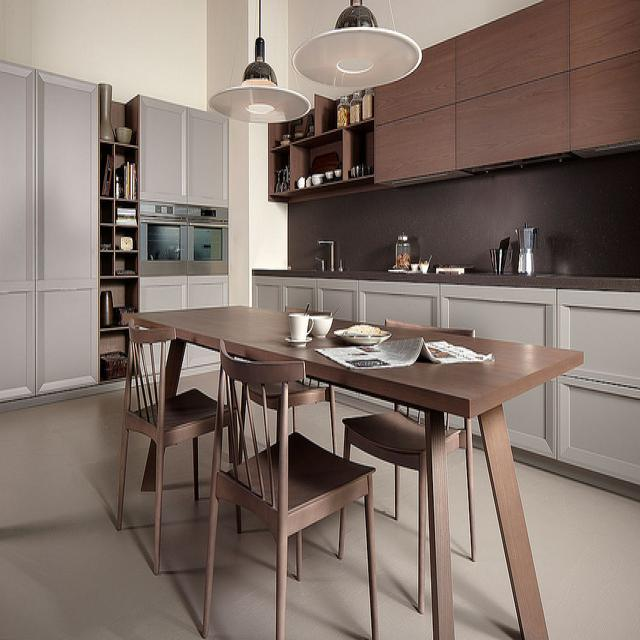chair: (201, 338, 381, 640), (336, 317, 478, 614), (116, 317, 216, 574), (291, 377, 338, 451)
dining table: (131, 302, 584, 637)
